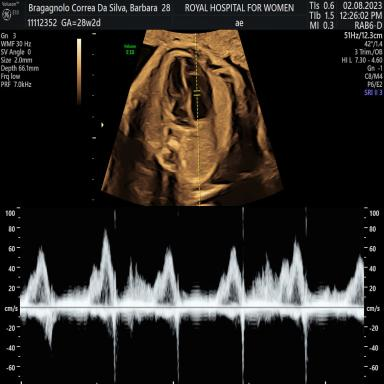Ultrasound-Waves: (24, 208, 363, 384)
